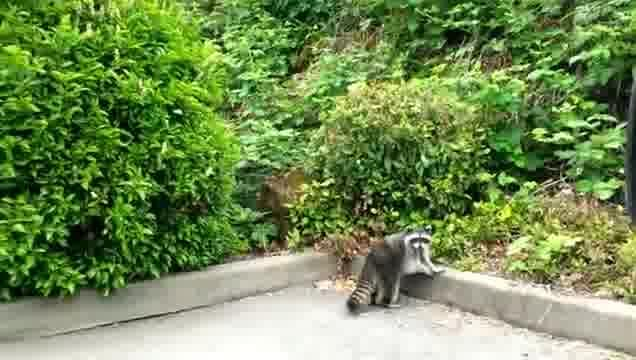raccoon: (345, 223, 448, 316)
